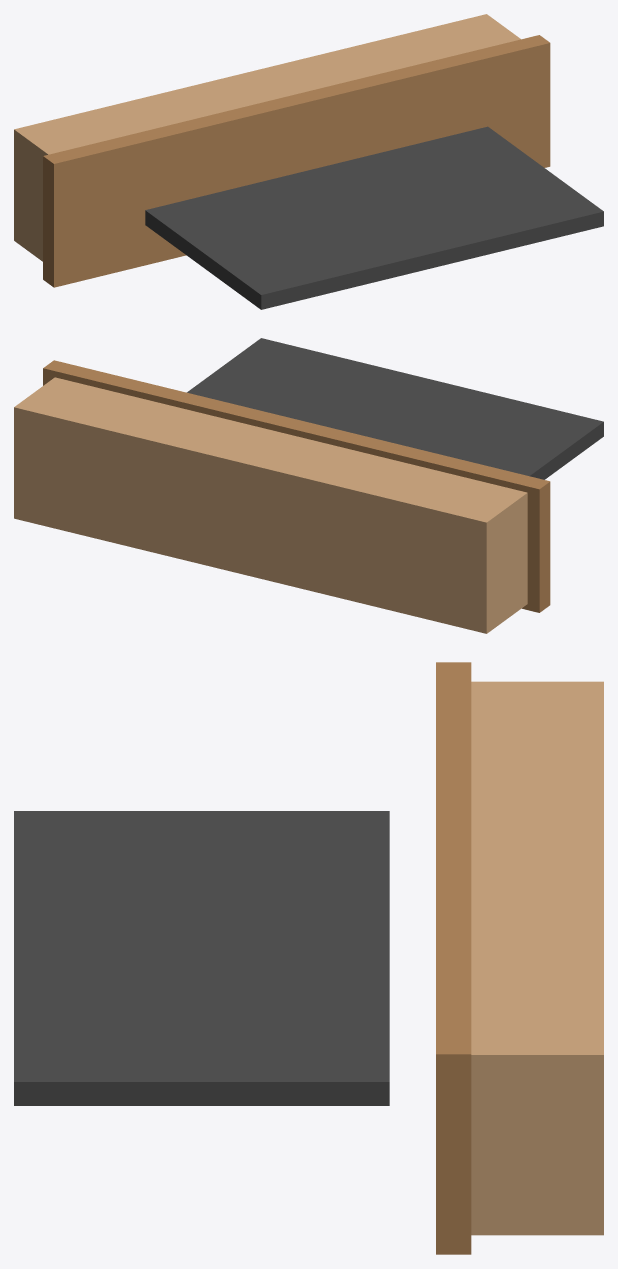
The model's file is tv-console.glb.
3 renders of one model, top to bottom at view 1: azimuth 30°, elevation 25°; view 2: azimuth 150°, elevation 25°; view 3: azimuth 270°, elevation 25°, orthographic. The views are drawn at different scales.
Visible parts, largest first — view 1: Top, TV, Console; view 2: Console, TV, Top; view 3: TV, Console, Top.
Boxes of the visible parts, x1,y1,x2,y2 form: Top: (43, 35, 550, 287); TV: (145, 126, 603, 309); Console: (14, 14, 520, 261); Console: (14, 377, 527, 633); TV: (187, 338, 603, 479); Top: (43, 360, 550, 612); TV: (14, 811, 389, 1105); Console: (471, 681, 603, 1235); Top: (436, 662, 471, 1254).
Size of the model in its own units: 2.1 by 0.5 by 1.33.
